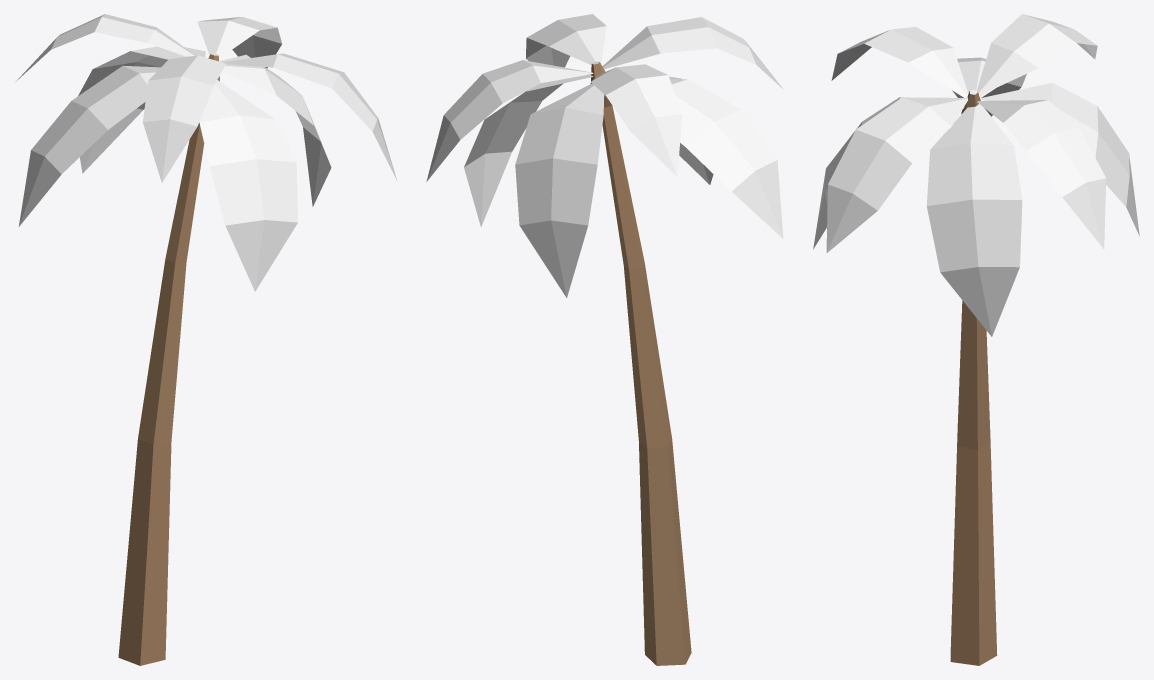
The model's file is Palm_Tree_OneSided_m_Snow_02.fbx.
3 views of the same model, side by side, from view 1: azimuth 30°, elevation 25°; view 2: azimuth 150°, elevation 25°; view 3: azimuth 270°, elevation 25° (orthographic). The views are drawn at different scales.
Parts seen in each view (by area): view 1: Palm_Tree_OneSided_m_Snow_02; view 2: Palm_Tree_OneSided_m_Snow_02; view 3: Palm_Tree_OneSided_m_Snow_02.
Part boxes in pixels (x1,y1,x2,y2): Palm_Tree_OneSided_m_Snow_02: (16, 14, 397, 665); Palm_Tree_OneSided_m_Snow_02: (426, 14, 783, 665); Palm_Tree_OneSided_m_Snow_02: (813, 14, 1139, 665).
Bounding box in the file's own units: 334 × 630 × 296.
